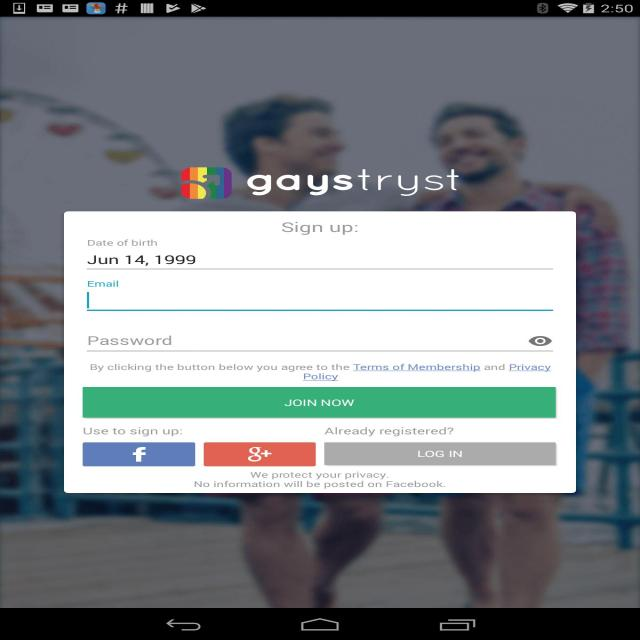button: (83, 386, 556, 418), (326, 442, 554, 464), (83, 441, 194, 466), (203, 442, 314, 467), (526, 332, 555, 350)
field: (82, 277, 560, 311), (83, 236, 557, 269), (81, 321, 560, 351)
heading: (245, 167, 459, 196), (276, 216, 366, 241)
image: (2, 17, 640, 607), (181, 167, 233, 200)
label: (84, 331, 174, 349), (87, 238, 159, 246), (82, 278, 125, 288)
link: (350, 360, 482, 373), (503, 360, 556, 374), (300, 370, 343, 383)
text: (83, 361, 560, 384), (191, 468, 449, 491), (322, 424, 456, 438), (81, 426, 185, 440)
